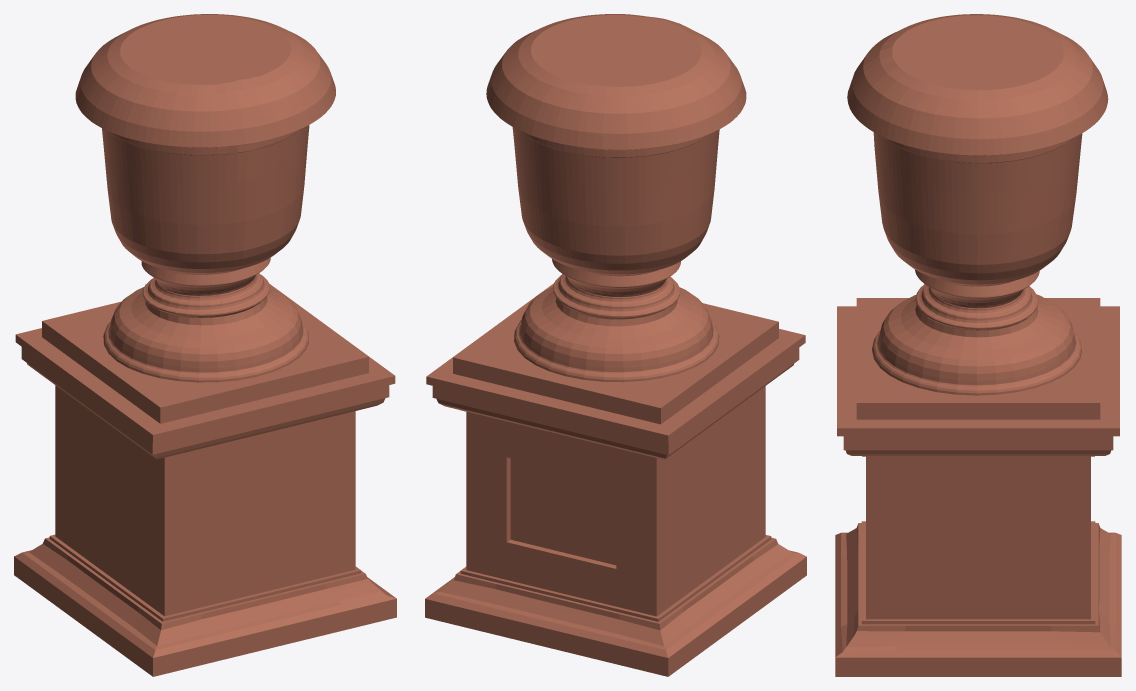
The model's file is Ornamen Gate sumur maut.fbx.
3 views of the same model, side by side, from view 1: azimuth 30°, elevation 25°; view 2: azimuth 150°, elevation 25°; view 3: azimuth 270°, elevation 25° (orthographic). The views are drawn at different scales.
Visible parts, largest first — view 1: Plane, Cylinder; view 2: Plane, Cylinder; view 3: Plane, Cylinder.
Boxes of the visible parts, x1,y1,x2,y2 form: Plane: [14, 284, 396, 676]; Cylinder: [75, 14, 335, 382]; Plane: [425, 283, 806, 676]; Cylinder: [486, 14, 746, 382]; Plane: [835, 298, 1121, 676]; Cylinder: [847, 14, 1108, 395].
Bounding box in the file's own units: 197 × 423 × 194.
